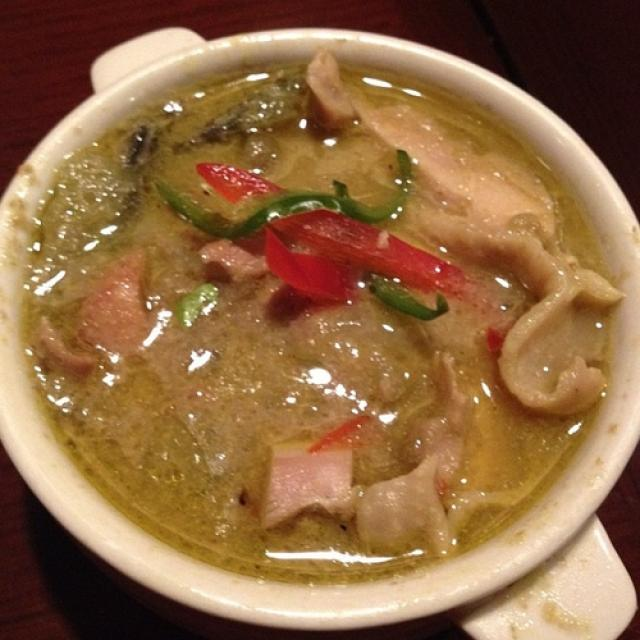面条主食: (35, 35, 583, 593)
